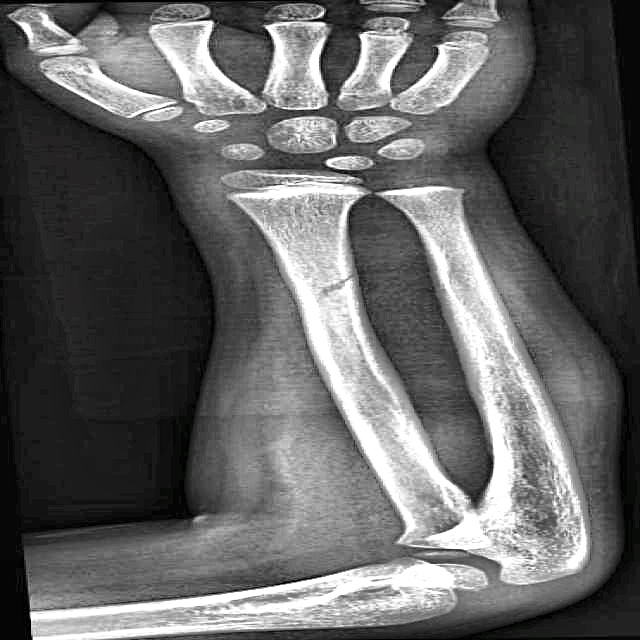Oblique Displaced: (266, 266, 390, 329)
